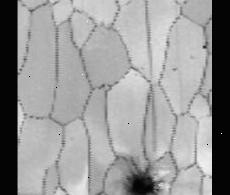good_void: (122, 154, 165, 195), (171, 64, 178, 70), (201, 43, 207, 48)
